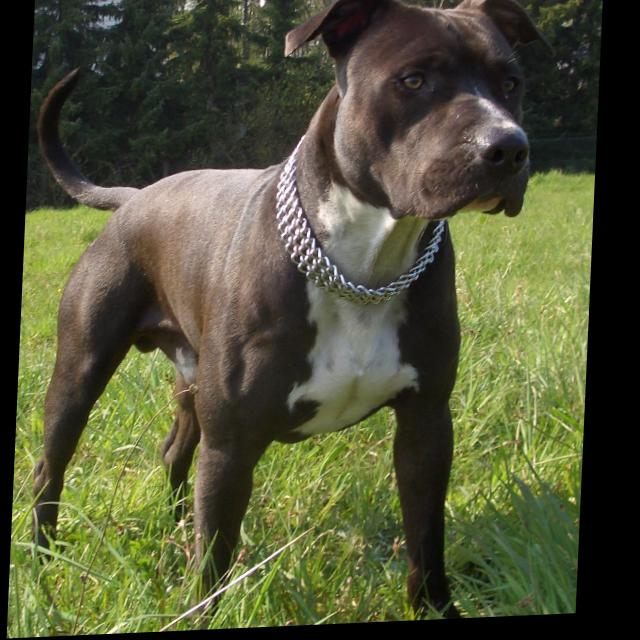am_pit_bull_terrier: (22, 1, 561, 639)
